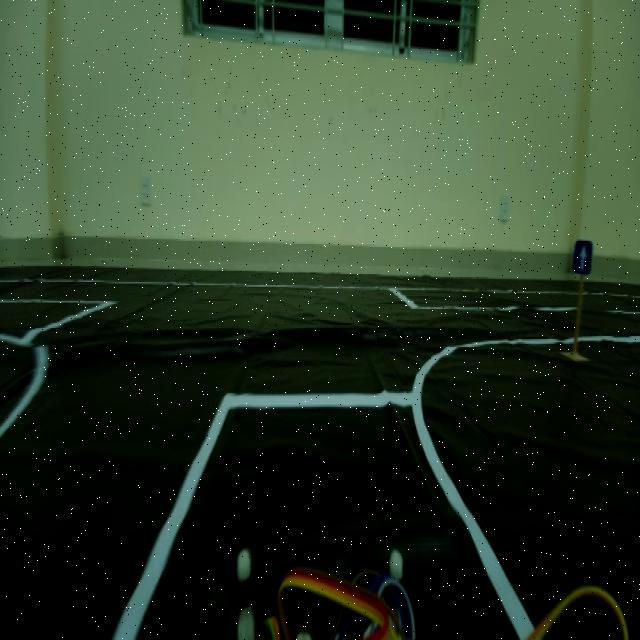onewayroad: (567, 226, 597, 281)
